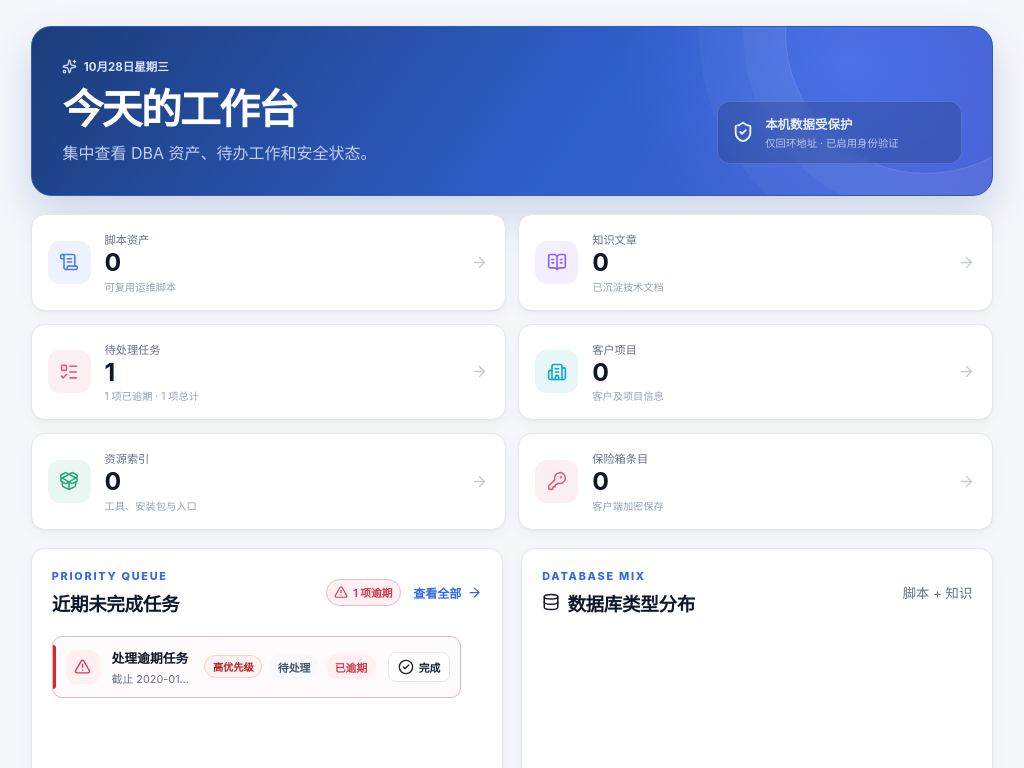
Test case: dashboard task queue › shows overdue tasks and supports quick completion
Expected: the link "1 项逾期" is shown, [326,579,401,606]
Expected: the text "已逾期" is shown, [326,654,376,679]
Step 1. Click the button with aria-label "完成任务：处理逾期任务" → click(419, 667), box [388,652,450,682]
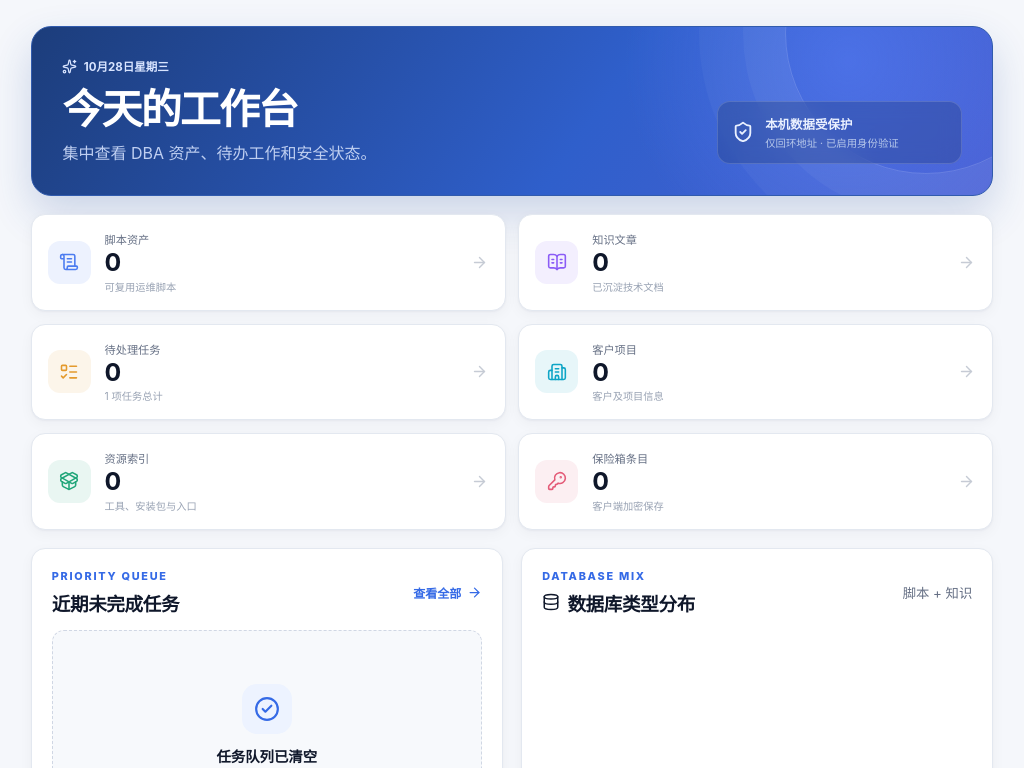
Result: the heading "任务队列已清空" is shown at [216,748,317,765]
